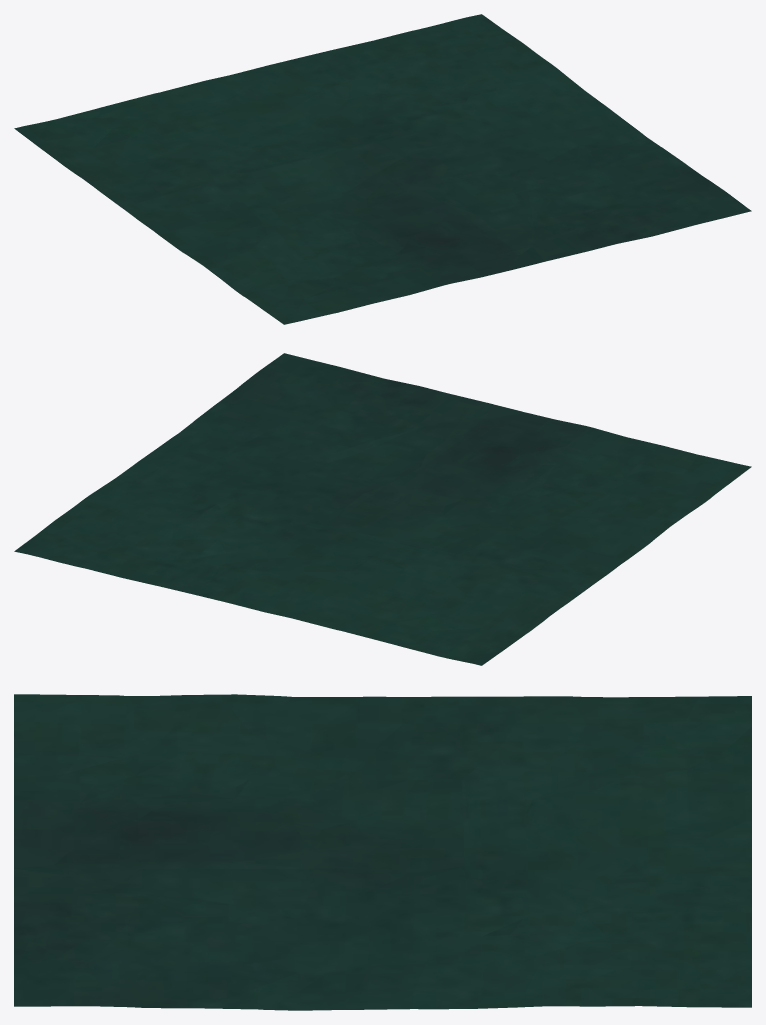
3 renders of one model, top to bottom at view 1: azimuth 30°, elevation 25°; view 2: azimuth 150°, elevation 25°; view 3: azimuth 270°, elevation 25°, orthographic. The views are drawn at different scales.
Bounding box in the file's own units: 52.22 × 0.569 × 52.22.
Materials: 2 (2 with a texture image).
